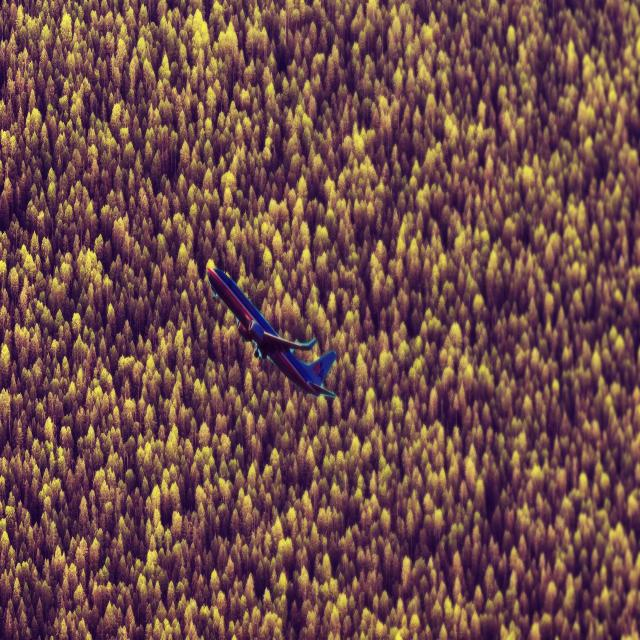airplane: (205, 259, 337, 401)
